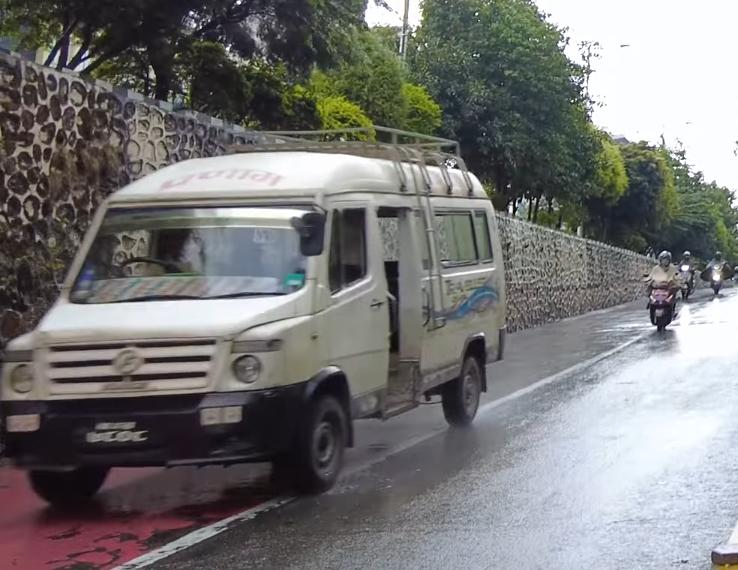micro_bus: (0, 122, 509, 513)
scooter: (642, 273, 679, 334)
